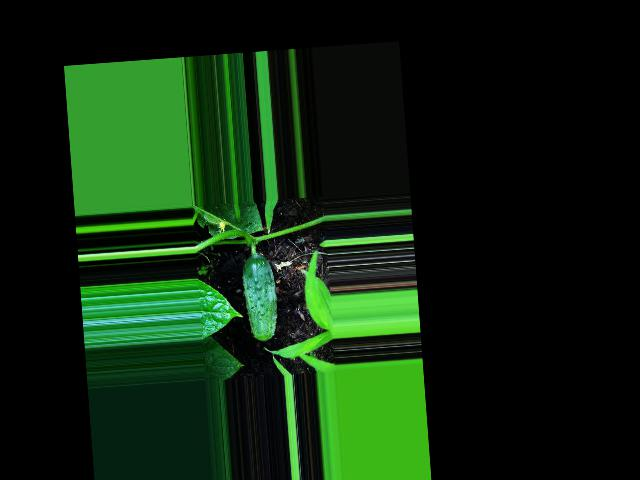cucumber: (241, 252, 280, 343)
